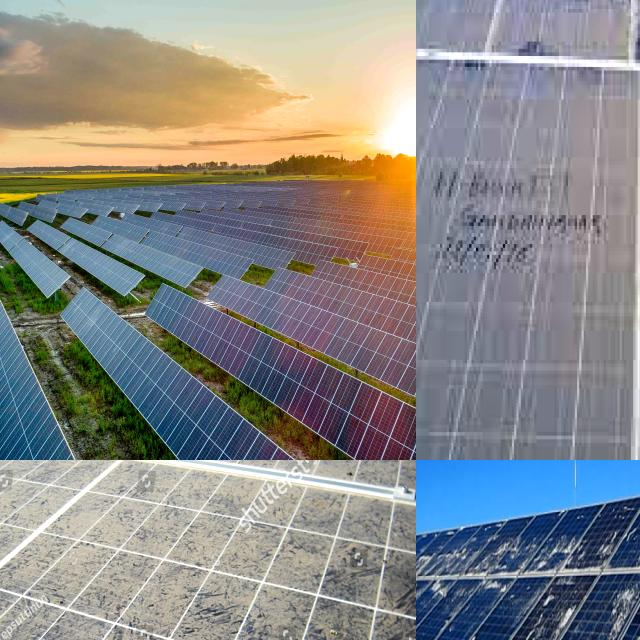dust: (510, 82, 634, 286), (0, 475, 177, 609), (508, 293, 631, 460), (416, 67, 501, 303), (217, 490, 328, 640), (416, 308, 498, 460), (259, 460, 416, 503), (501, 0, 619, 53), (0, 489, 46, 614), (416, 62, 437, 296), (12, 460, 147, 495), (416, 0, 498, 54), (416, 316, 437, 460)
panel: (416, 538, 522, 593), (549, 523, 626, 580), (526, 592, 580, 640), (416, 563, 443, 640), (596, 591, 637, 640), (522, 516, 546, 584), (416, 628, 511, 640)
